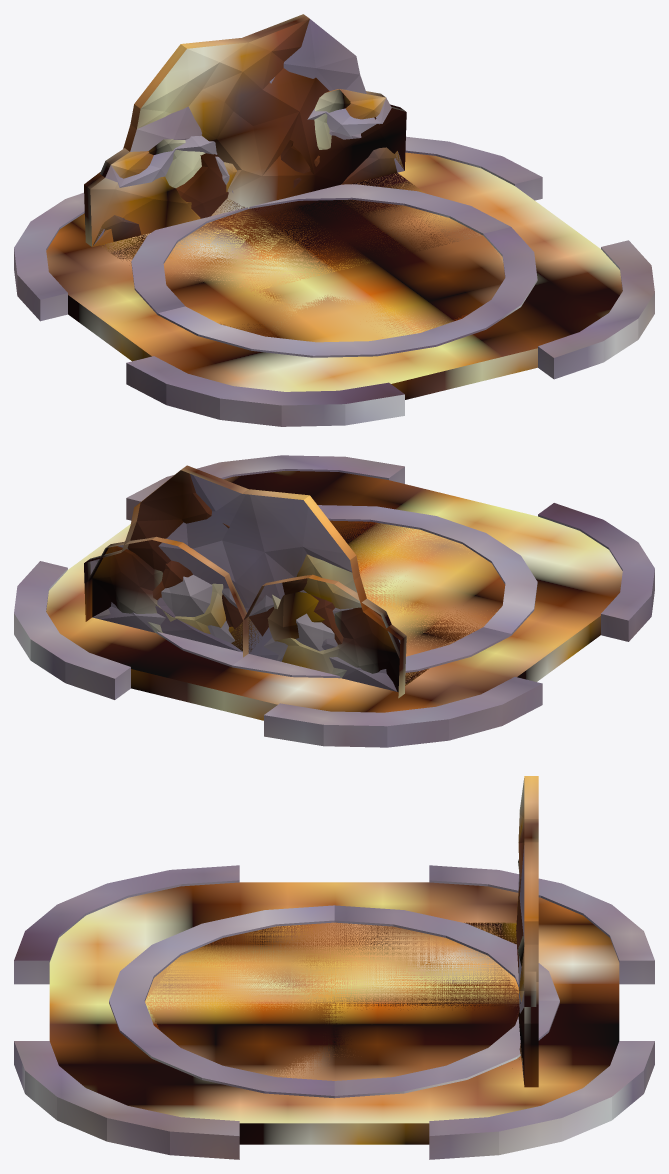
File: new bed.fbx
3 views of the same model, one above another, from view 1: azimuth 30°, elevation 25°; view 2: azimuth 150°, elevation 25°; view 3: azimuth 270°, elevation 25° (orthographic). The views are drawn at different scales.
Visible parts, largest first — view 1: large round, large backboard 2, medium/small round, right, right back, left, left back, large headboard 1, backbord3, backbord4, backboard edge, backboard2 (+3 smaller); view 2: large round, large headboard 1, left, large backboard 2, medium/small round, backboard5, backboard4, right, backboard edge, backboard3, backboard2, backboard hold_1 (+4 smaller); view 3: large round, medium/small round, right, left, left back, backboard edge, large backboard 2, right back.
Boxes of the visible parts, x1,y1,x2,y2 form: large round: (14, 136, 654, 426); large backboard 2: (90, 19, 406, 246); medium/small round: (131, 184, 510, 314); right: (335, 227, 537, 346); right back: (249, 172, 482, 271); left: (157, 272, 436, 357); left back: (101, 209, 333, 292); large headboard 1: (130, 19, 366, 162); backbord3: (93, 151, 244, 245); backbord4: (280, 89, 404, 188); backboard edge: (84, 14, 405, 246); backboard2: (93, 135, 243, 245); large round: (14, 455, 654, 747); large headboard 1: (90, 474, 400, 661); left: (360, 516, 537, 635); large backboard 2: (127, 470, 361, 640); medium/small round: (156, 603, 511, 678); backboard5: (92, 546, 242, 650); backboard4: (248, 594, 399, 692); right: (317, 505, 435, 573); backboard edge: (84, 465, 406, 698); backboard3: (100, 545, 242, 651); backboard2: (248, 595, 397, 691); backboard hold_1: (86, 536, 248, 657); large round: (14, 865, 654, 1159); medium/small round: (334, 905, 559, 1097); right: (109, 1000, 334, 1098); left: (109, 905, 334, 1002); left back: (334, 922, 518, 1002); backboard edge: (524, 776, 538, 1087); large backboard 2: (516, 778, 524, 1082); right back: (334, 1003, 519, 1056).
Bounding box in the file's own units: 1350 × 500 × 1350.
2 materials, 2 textured.
